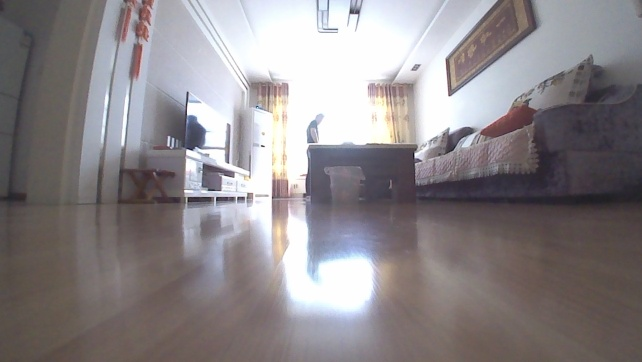TV_stand: (142, 143, 250, 206)
sofa1: (412, 48, 641, 200)
tea_table: (300, 141, 418, 206)
